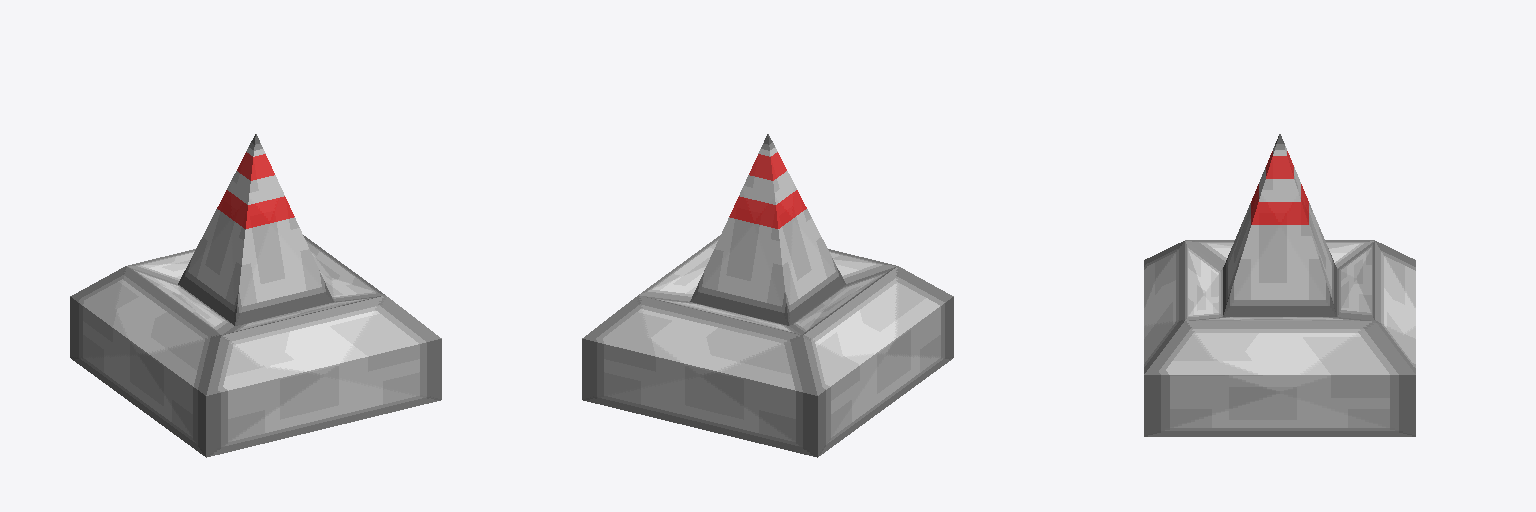
3 renders of one model, left to right at view 1: azimuth 30°, elevation 25°; view 2: azimuth 150°, elevation 25°; view 3: azimuth 270°, elevation 25°, orthographic.
Visible parts, largest first — view 1: Launcher_Cube.001; view 2: Launcher_Cube.001; view 3: Launcher_Cube.001.
Boxes of the visible parts, box(x1,y1,x2,y2) form: Launcher_Cube.001: box(70, 134, 441, 457); Launcher_Cube.001: box(582, 134, 953, 457); Launcher_Cube.001: box(1144, 134, 1415, 436).
Size of the model in its own units: 2 by 2 by 2.
2 materials, 2 textured.